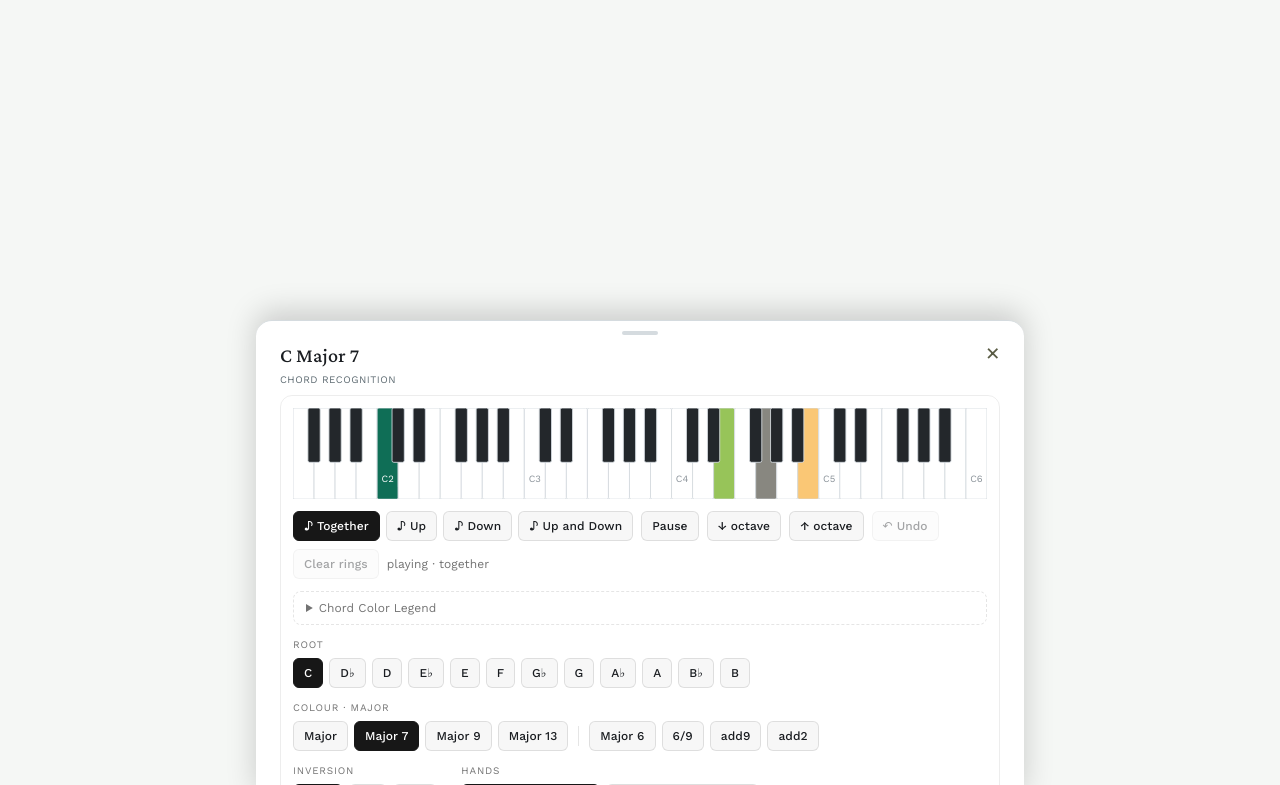
Test case: the card's own rows (spec §4) › Root transposes the chord, says it came from the card, and plays it
This screenshot has width=1280, height=785.
Click the button "E♭" at [426, 673], box [408,658,444,688]
(page scrolled)
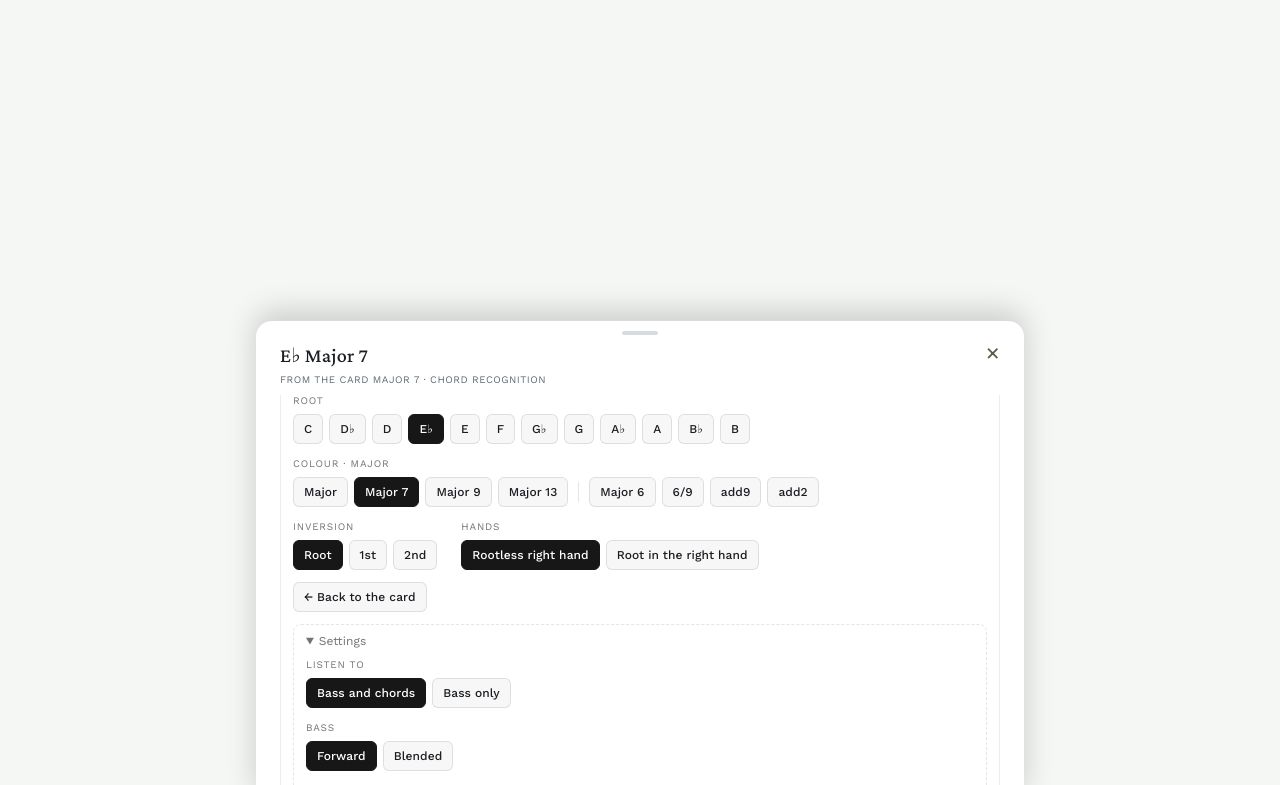
Result: the heading "E♭ Major 7" is shown at [280,344,368,366]
